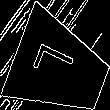L_SE: (34, 44, 86, 92)
